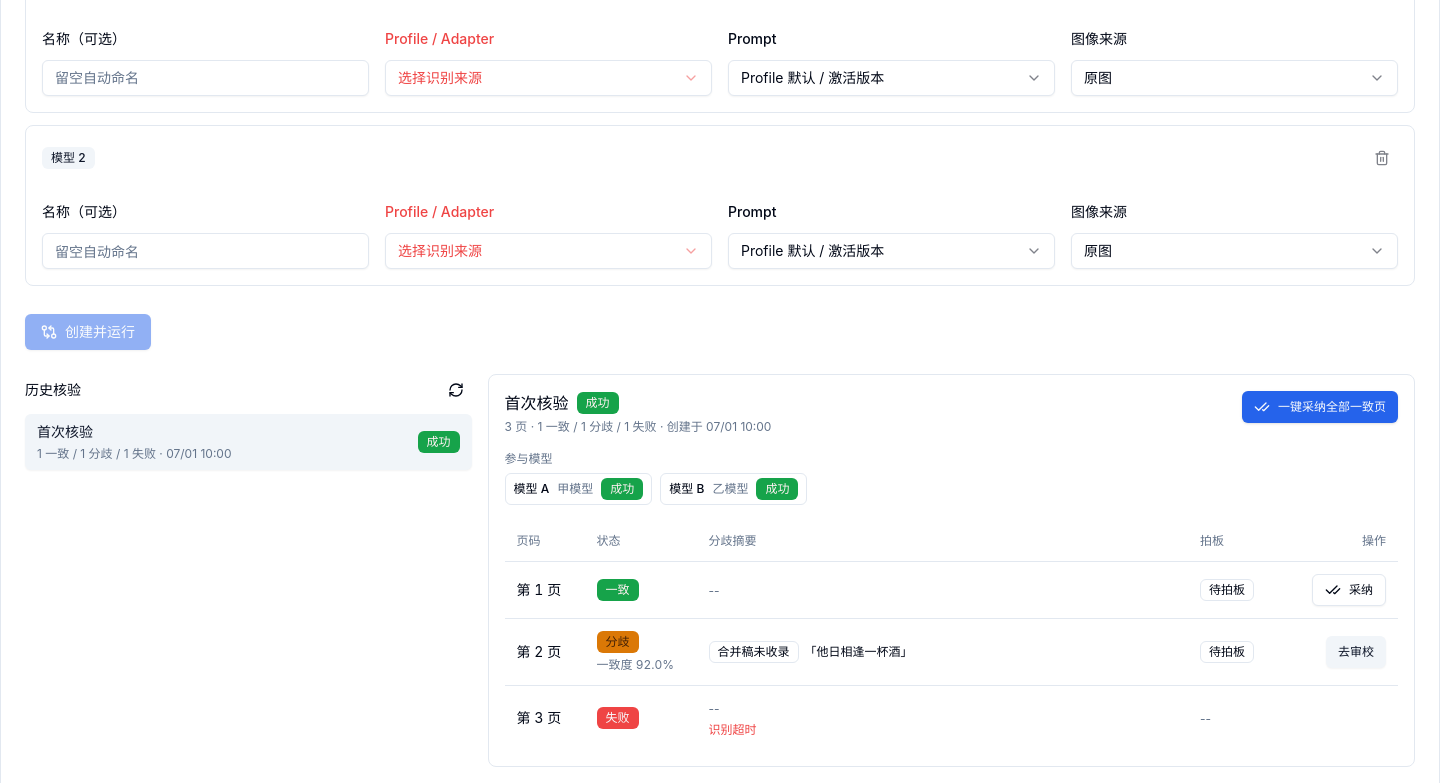
Test case: CrossCheckCard › adopts all consensus pages after confirmation and lists skipped pages
The width and height of the screenshot is (1440, 783).
(page scrolled)
Click the button "一键采纳全部一致页" at (1320, 407), box [1242,391,1398,423]
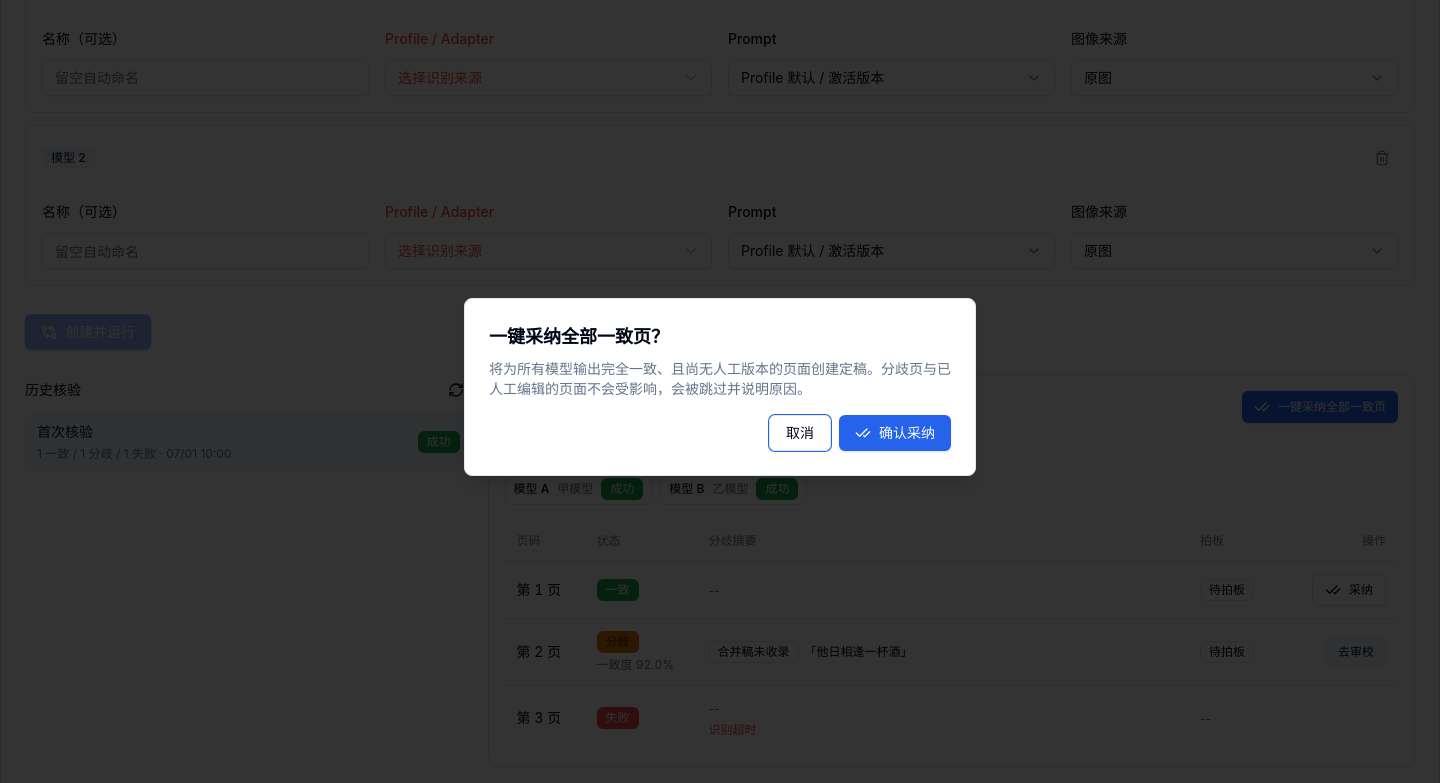
Click the button "确认采纳" at (895, 433), box [839,415,951,451]
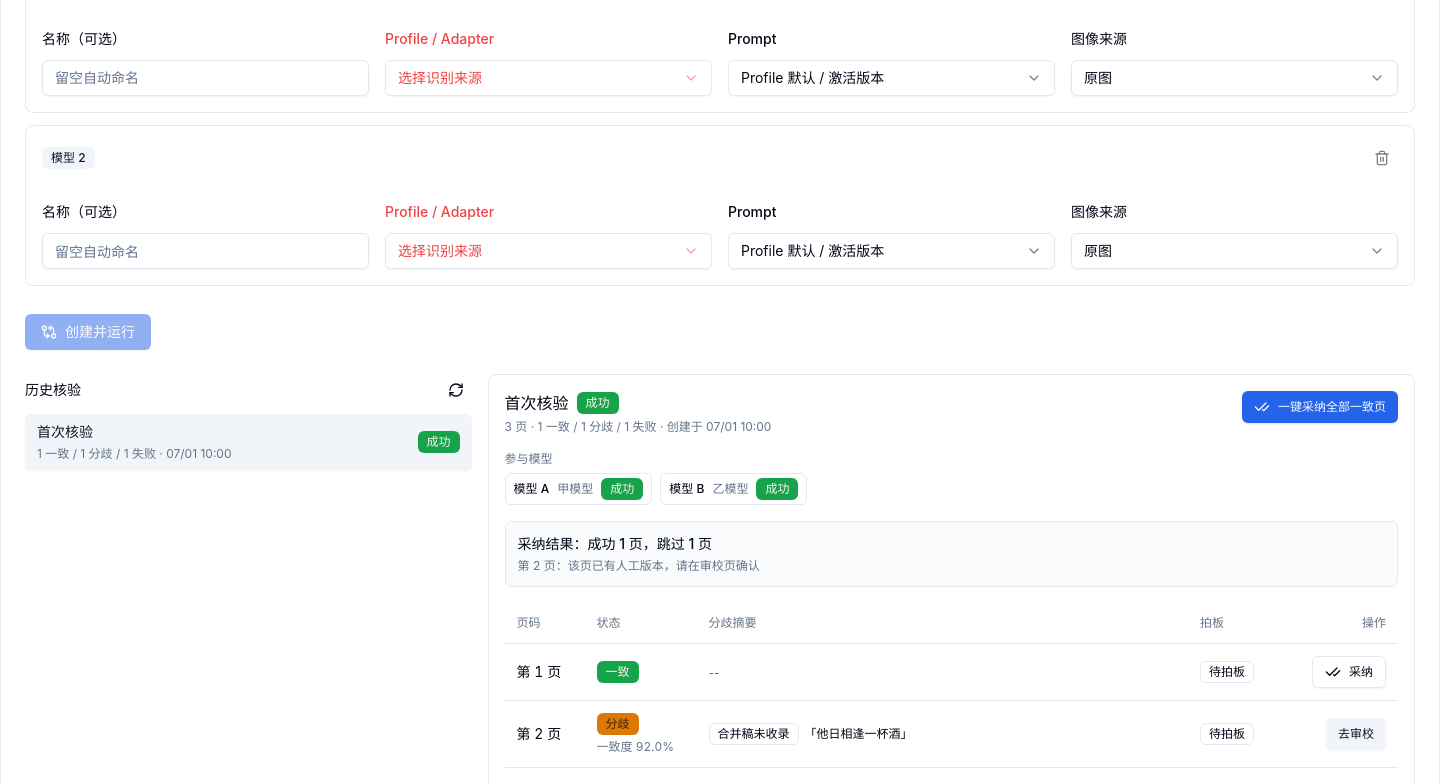
Check: the text "采纳结果：成功 1 页，跳过 1 页" is shown, box [518,535,712,552]
Check: the text "第 2 页：该页已有人工版本，请在审校页确认" is shown, box [518,558,760,573]
